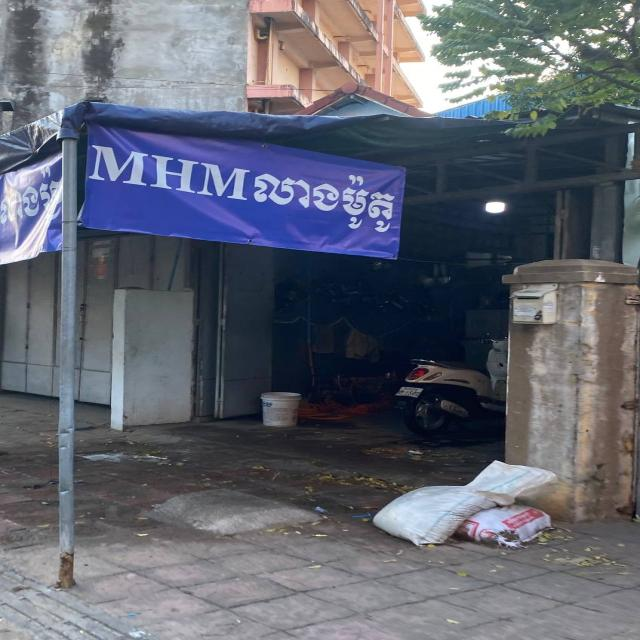Yolov11_80vkh: (247, 153, 401, 234)
